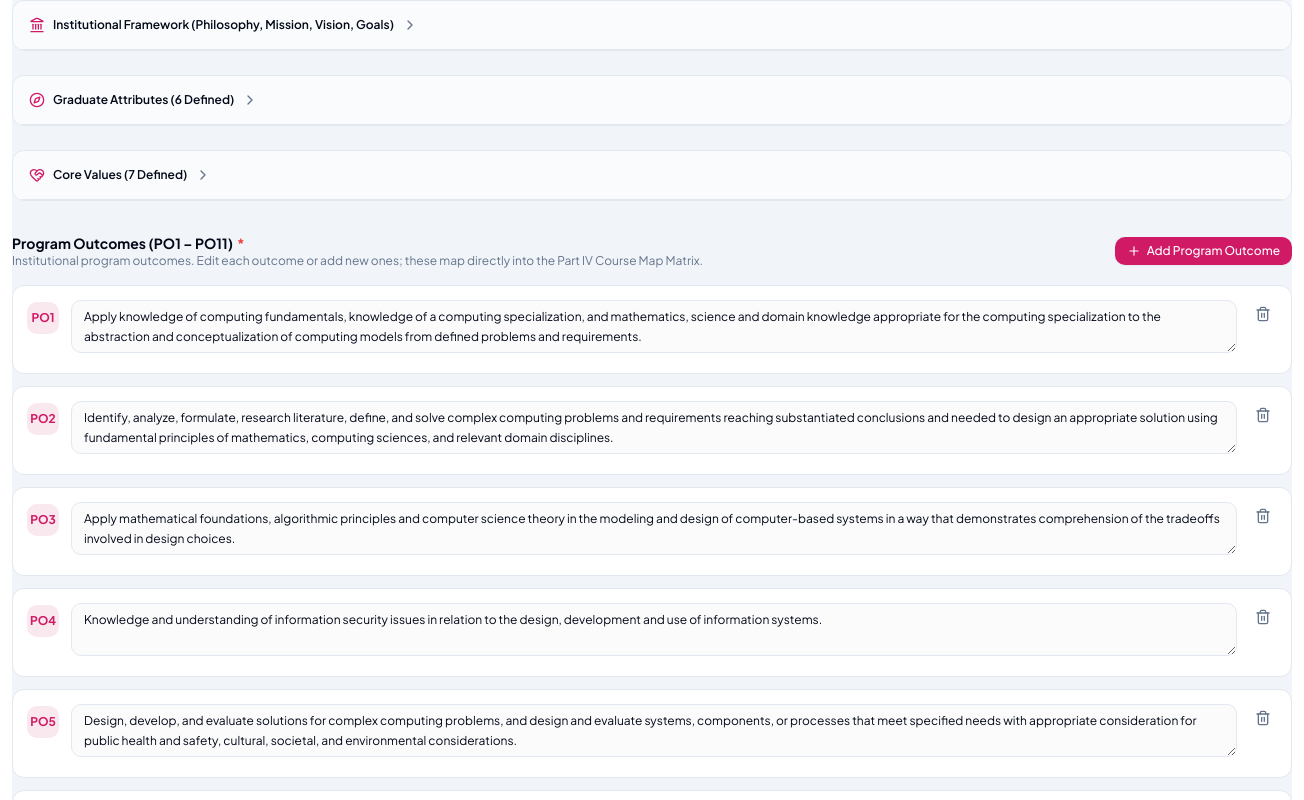
Test: Wizard Steps Early › Step 2 renders Philosophy, Mission, Vision, and Goals as disabled inputs
Click the button "Institutional Framework (Philosophy, Mission, Vision, Goals)".
click(223, 25)  # box [29, 17, 418, 33]
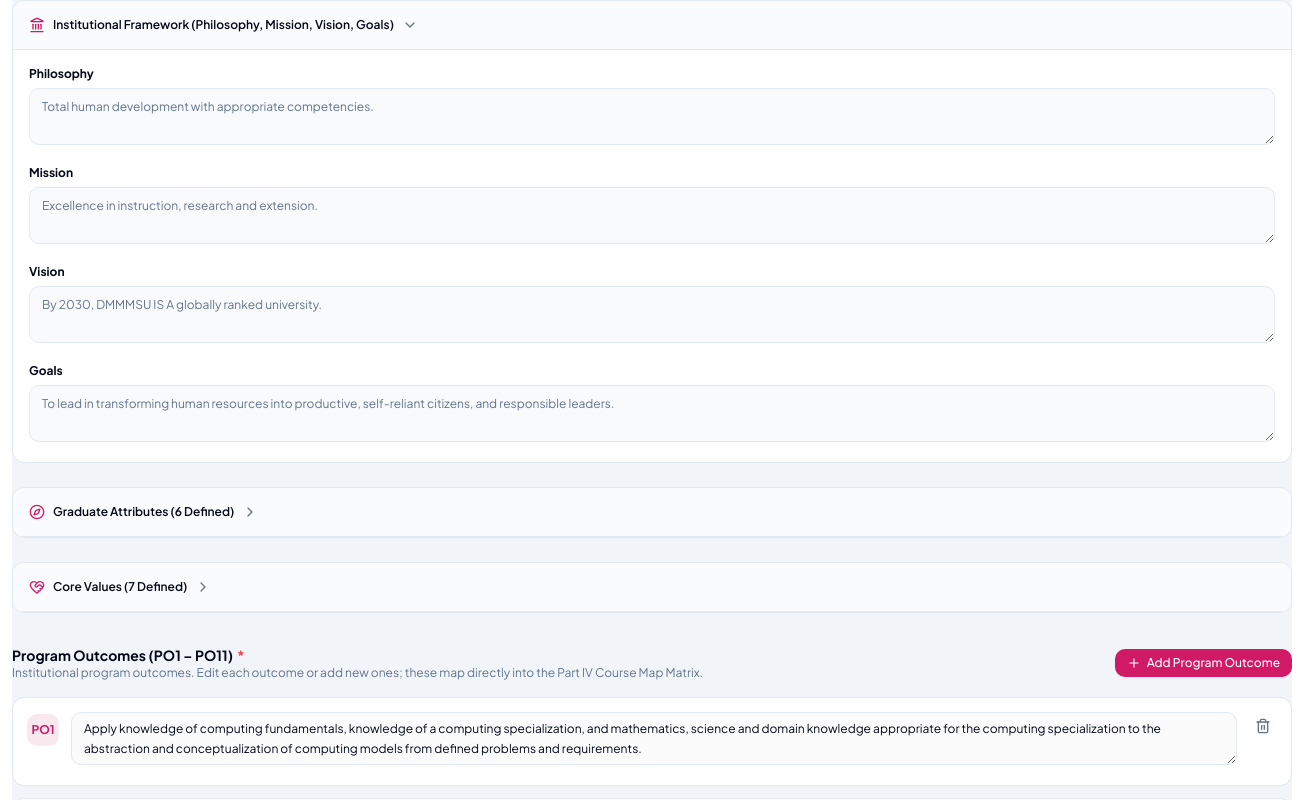
Now the text box labelled "Philosophy" is disabled, box [29, 88, 1275, 145]
Now the text box labelled "Mission" is disabled, box [29, 187, 1275, 244]
Now the text box labelled "Vision" is disabled, box [29, 286, 1275, 343]
